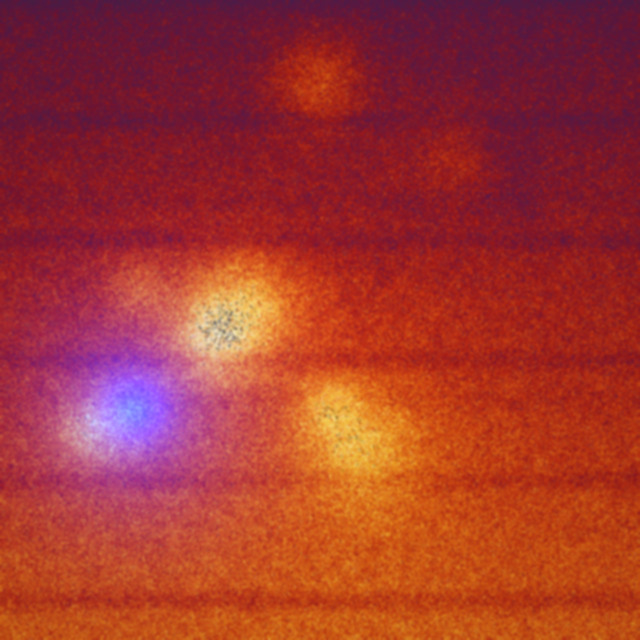nozzle: (90, 370, 179, 455)
